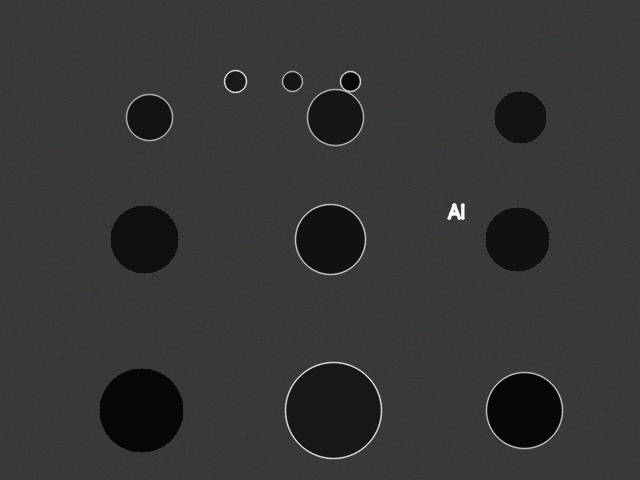hole: (285, 362, 381, 458), (99, 368, 183, 452), (486, 372, 562, 448), (295, 204, 365, 274), (110, 205, 178, 273), (485, 207, 549, 271), (307, 89, 363, 145), (494, 91, 546, 143), (126, 94, 172, 140), (224, 70, 246, 92), (282, 71, 302, 91), (340, 71, 360, 91)
